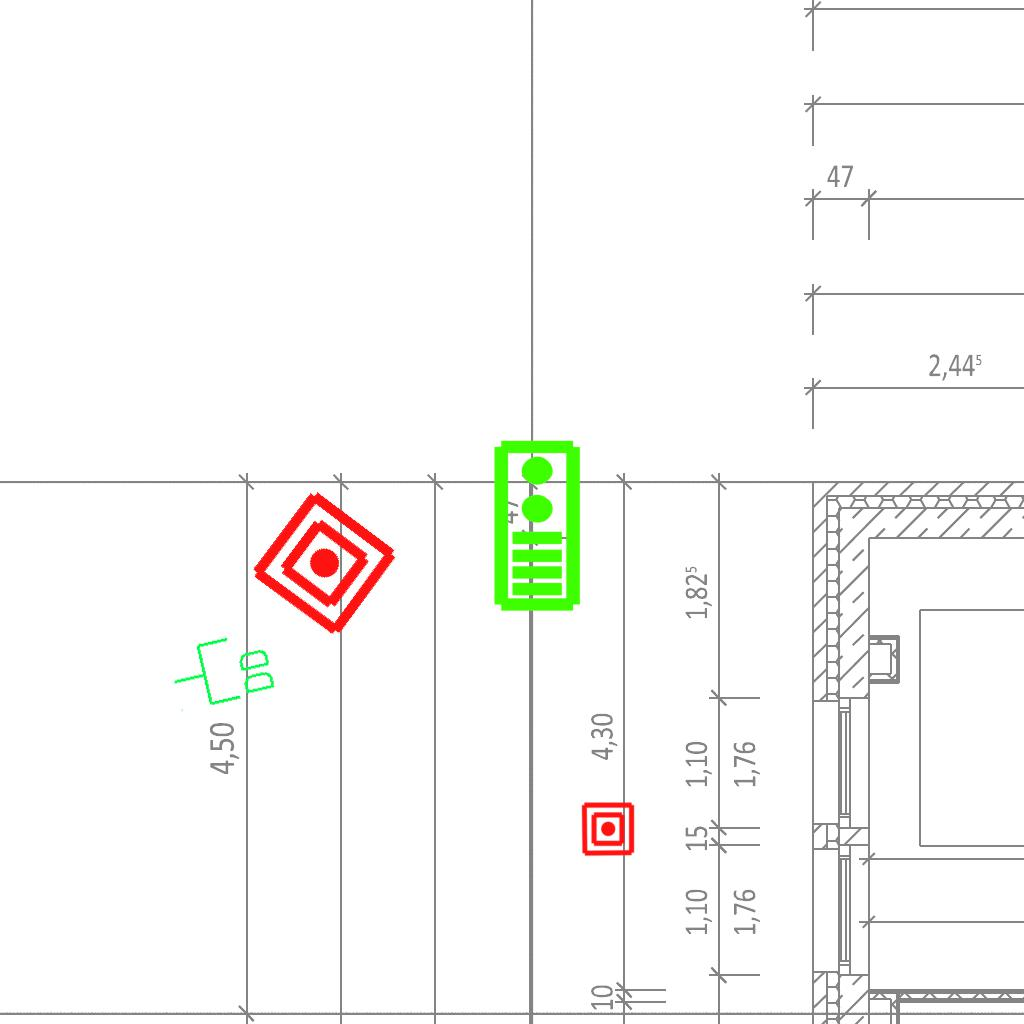Datenanschluss_zweifach: (164, 626, 281, 717)
Gegensprechanlage_mit_Video: (488, 437, 583, 613)
NAM-Nichtautomatischer_Melder: (245, 484, 404, 643), (580, 801, 636, 857)
